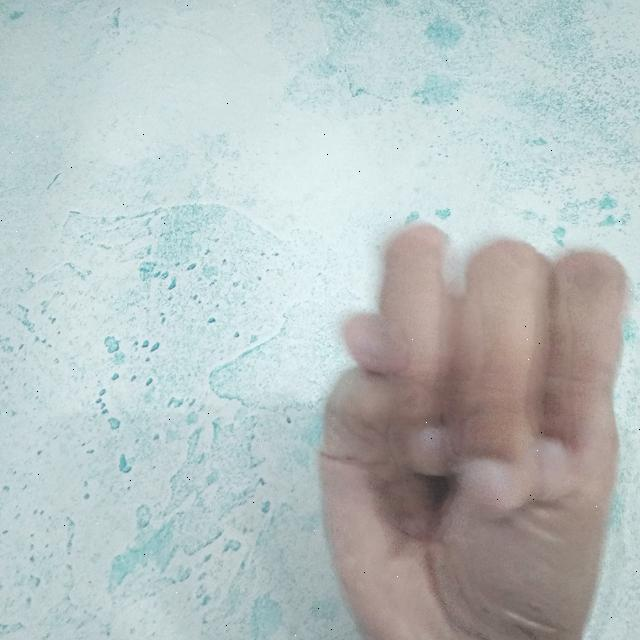M: (309, 216, 635, 640)
